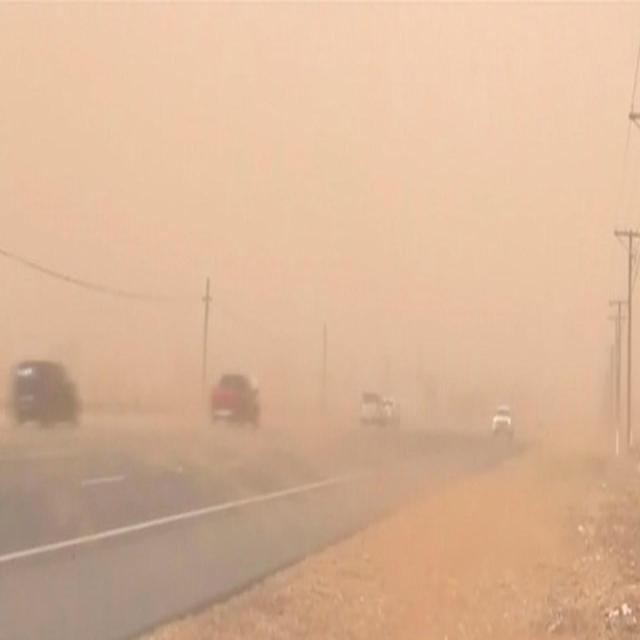Car: (13, 354, 84, 434), (208, 370, 263, 429), (358, 390, 394, 429), (487, 406, 516, 440)
